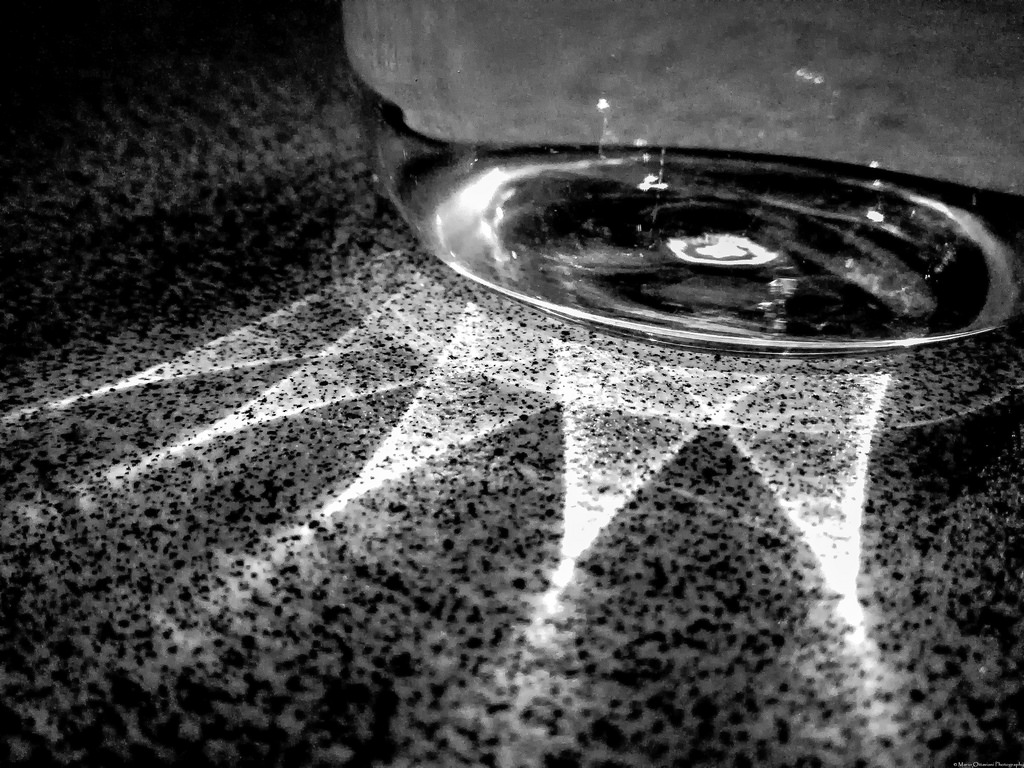glass of water: (349, 15, 1024, 375)
